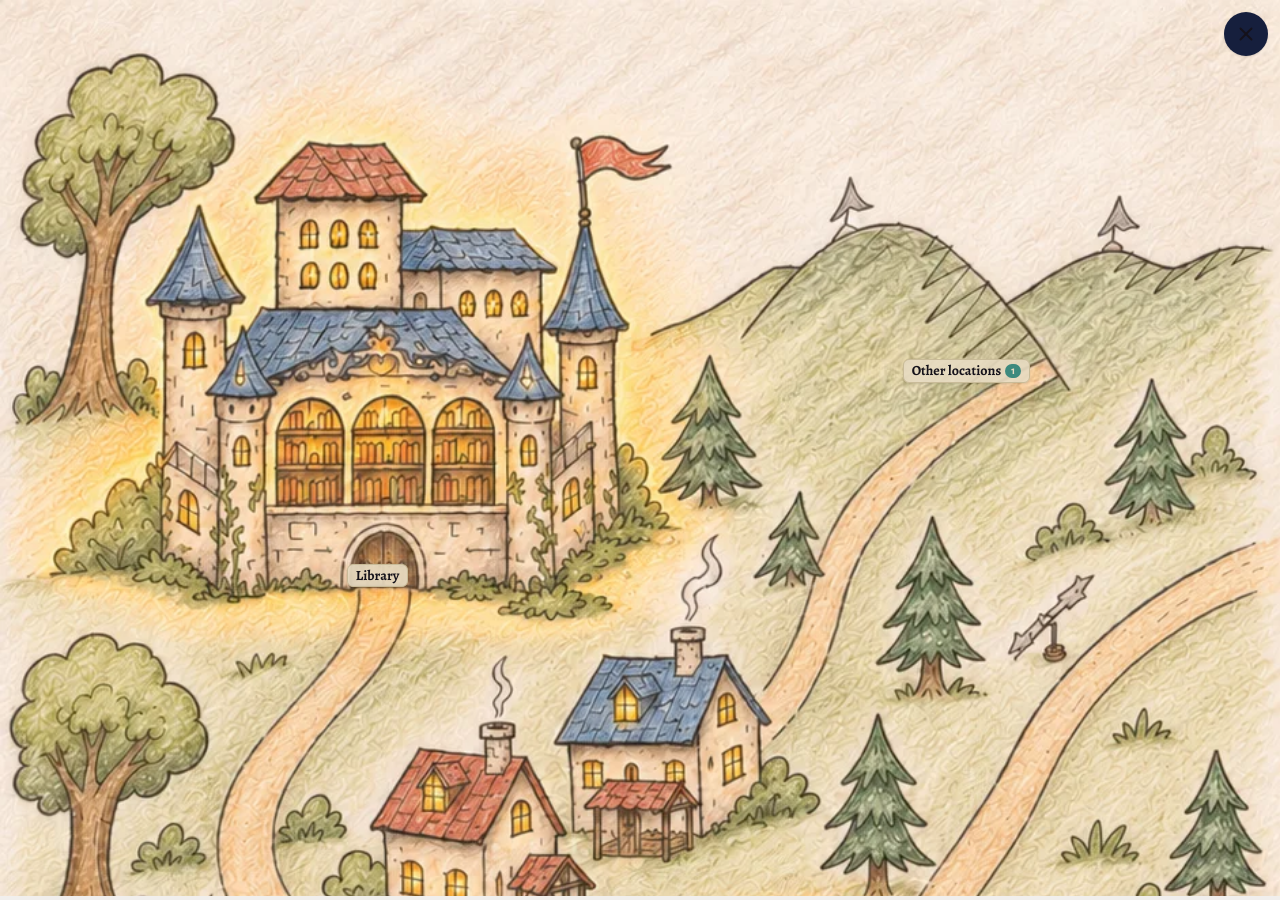
MapSheet › reveals tale-only places under "Other locations" with the new marker
Check: the button "Docks Warehouse" is not shown
Click the button "Other locations 1": (966, 227) [666,68,1267,387]
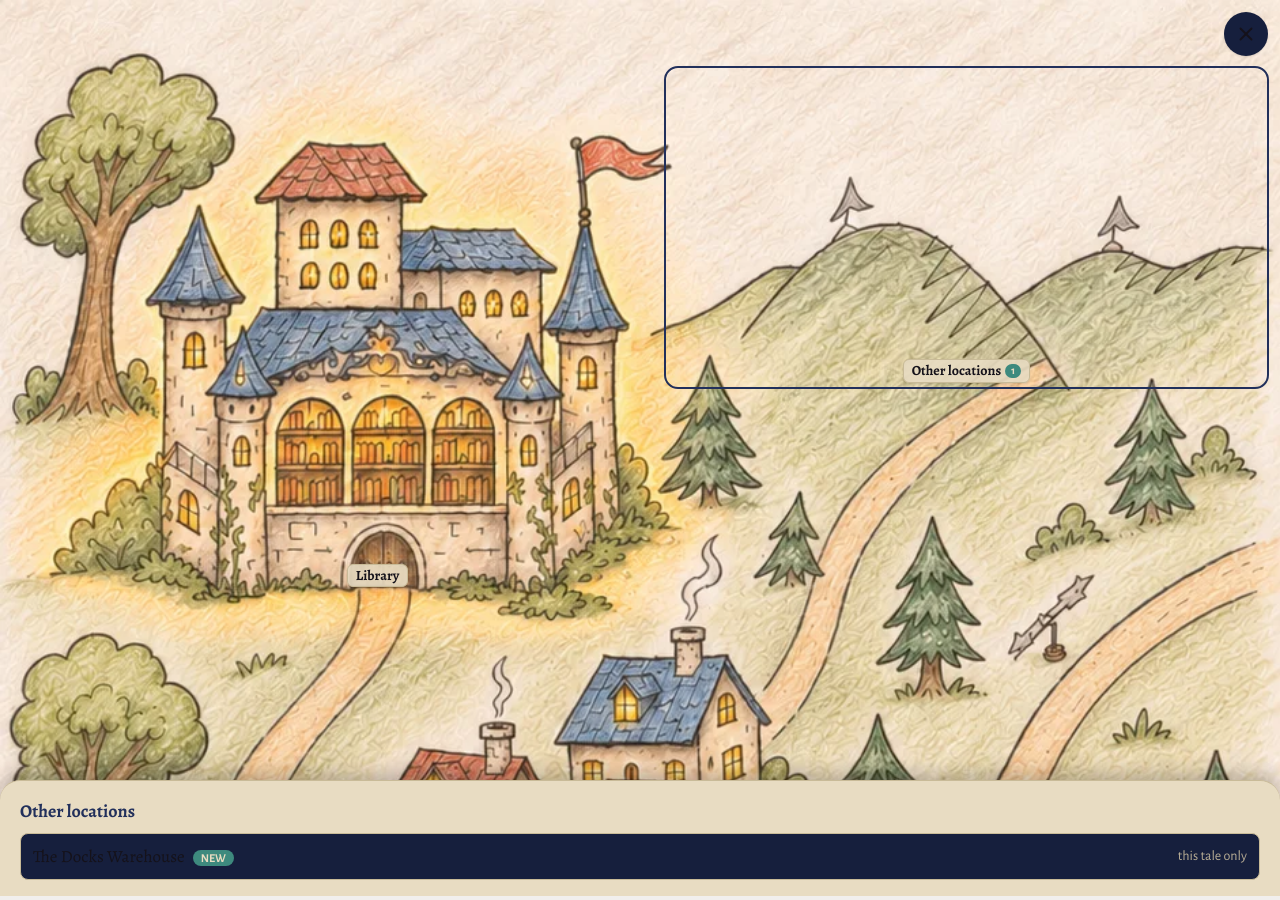
Check: the button "Docks Warehouse" shows "new", box [20,832,1260,880]
